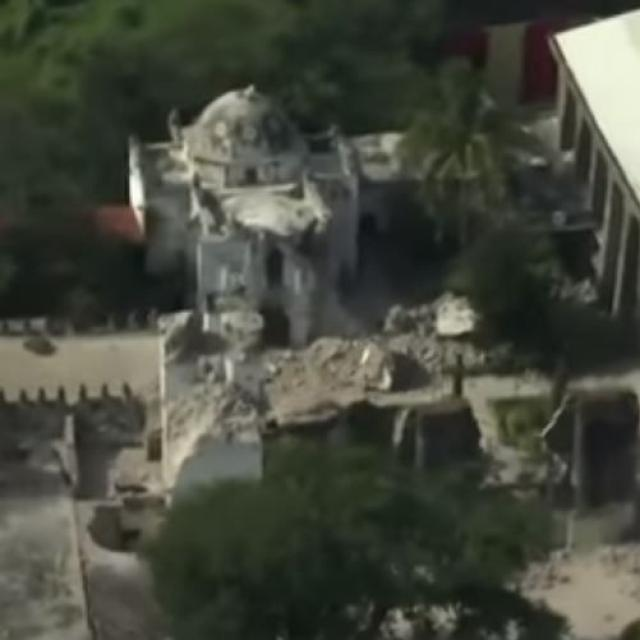collapsed_building: (138, 134, 612, 523)
